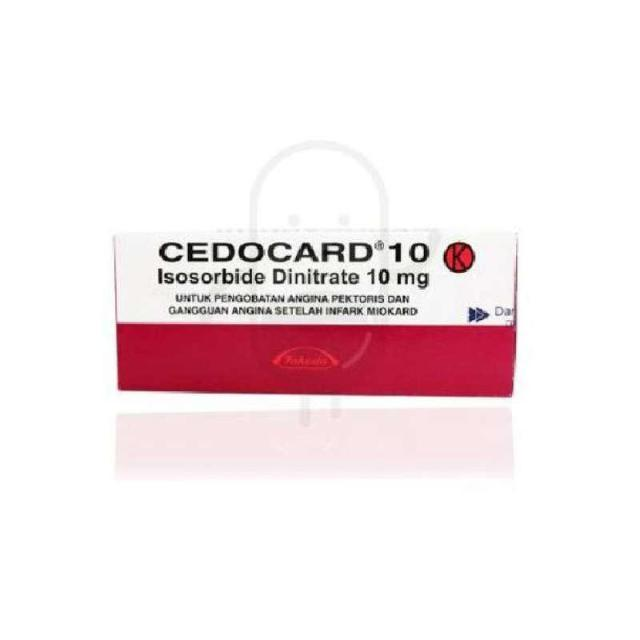drug-name: (156, 238, 428, 266)
